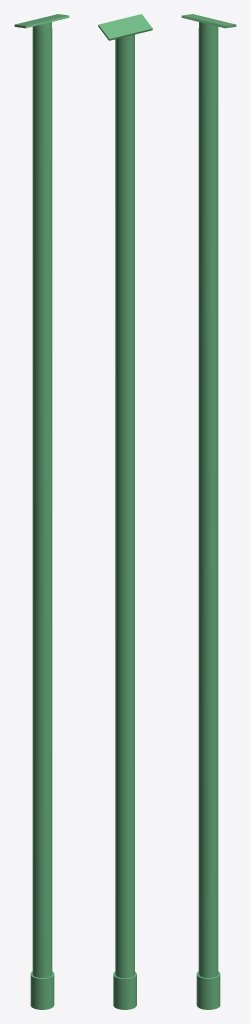
File: Pole_Straight_V2.FBX
3 renders of one model, left to right at view 1: azimuth 30°, elevation 25°; view 2: azimuth 210°, elevation 25°; view 3: azimuth 330°, elevation 25°, orthographic.
Visible parts, largest first — view 1: Pole_Straight; view 2: Pole_Straight; view 3: Pole_Straight.
Boxes of the visible parts, x1,y1,x2,y2 form: Pole_Straight: (14, 14, 69, 1009); Pole_Straight: (98, 14, 152, 1009); Pole_Straight: (181, 14, 236, 1009).
Size of the model in its own units: 0.0973 by 2.1 by 0.0467.
